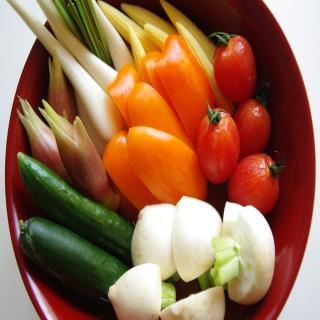tomato: (226, 154, 282, 216), (208, 30, 255, 101), (197, 106, 241, 180), (234, 82, 268, 164)
